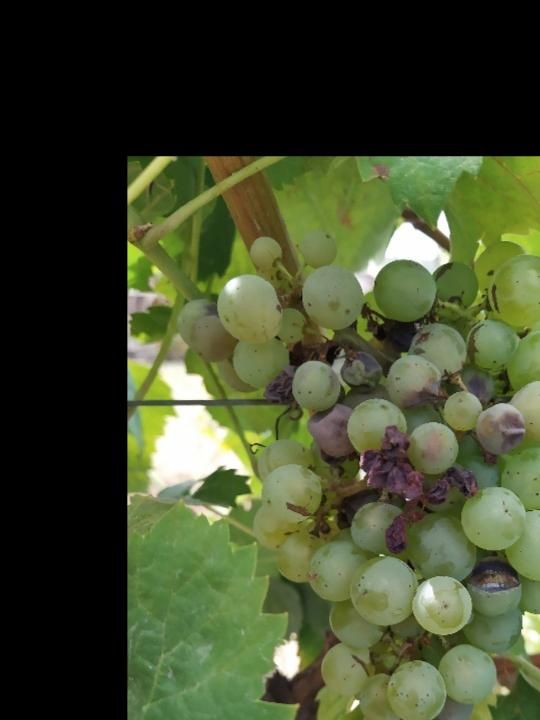grape: (173, 226, 540, 720)
